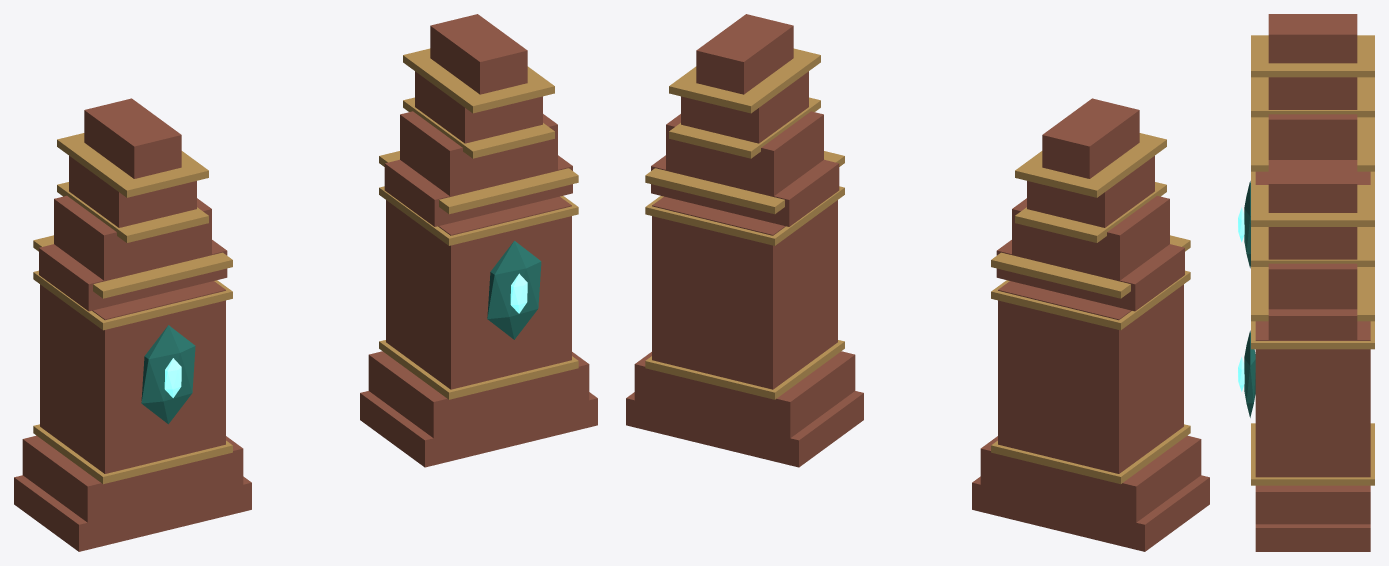
Rendered from gerbang-sukma.glb.
3 renders of one model, left to right at view 1: azimuth 30°, elevation 25°; view 2: azimuth 150°, elevation 25°; view 3: azimuth 270°, elevation 25°, orthographic. The views are drawn at different scales.
Visible parts, largest first — view 1: Gerbang_Sukma; view 2: Gerbang_Sukma; view 3: Gerbang_Sukma.
Part boxes in pixels (left/top/right/bottom): Gerbang_Sukma: left=14, top=14, right=597, bottom=551; Gerbang_Sukma: left=626, top=14, right=1209, bottom=551; Gerbang_Sukma: left=1238, top=14, right=1374, bottom=551.
Bounding box in the file's own units: 12 × 8.5 × 3.1.
